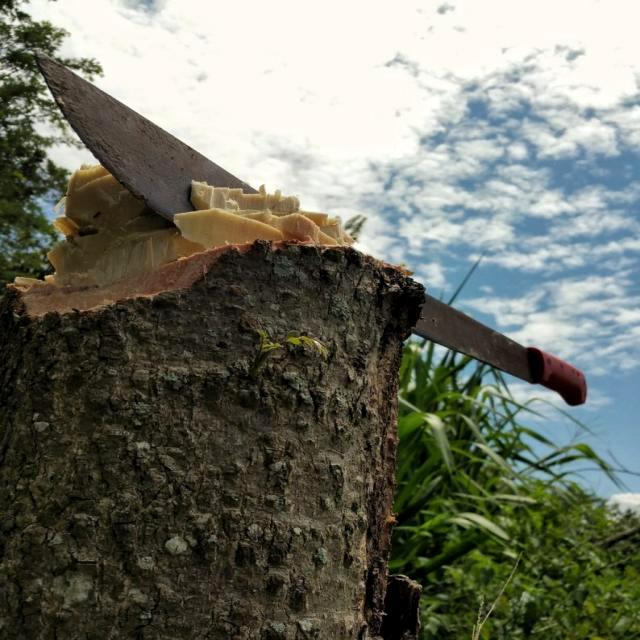long knife: (28, 49, 600, 427)
